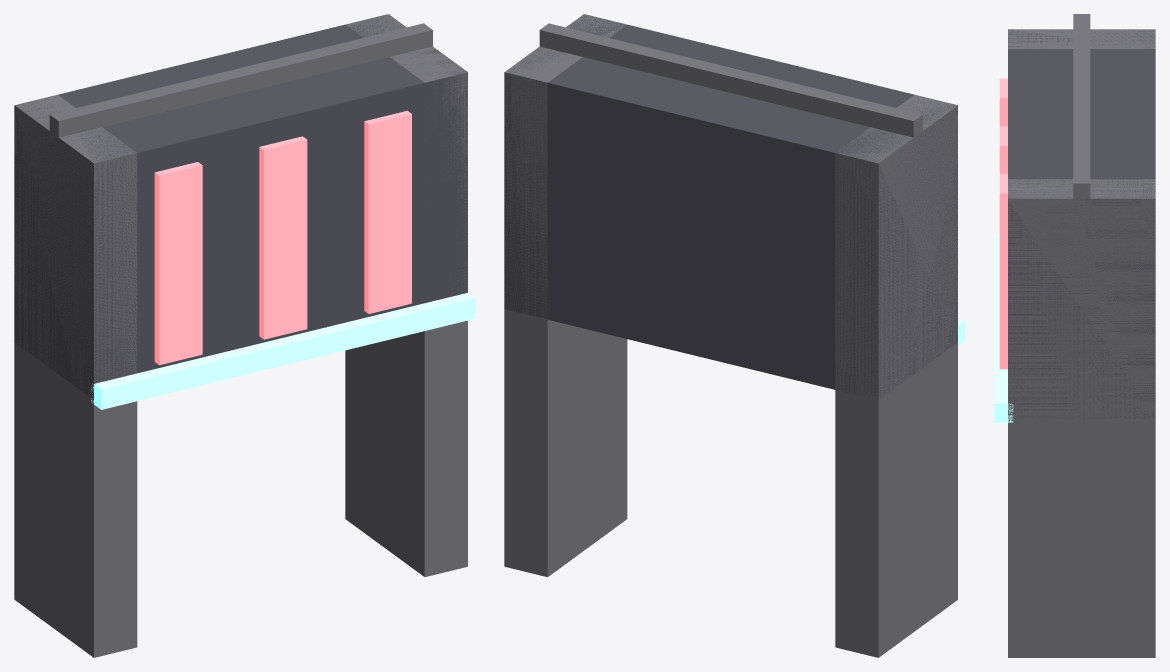
Rendered from obs_high.glb.
3 views of the same model, side by side, from view 1: azimuth 30°, elevation 25°; view 2: azimuth 150°, elevation 25°; view 3: azimuth 270°, elevation 25° (orthographic). The views are drawn at different scales.
Parts seen in each view (by area): view 1: obs_high; view 2: obs_high; view 3: obs_high.
Part boxes in pixels (<box>): obs_high: <box>14,14,475,657</box>; obs_high: <box>504,14,965,657</box>; obs_high: <box>994,14,1155,657</box>.
Size of the model in its own units: 1.9 by 2.48 by 0.765.
